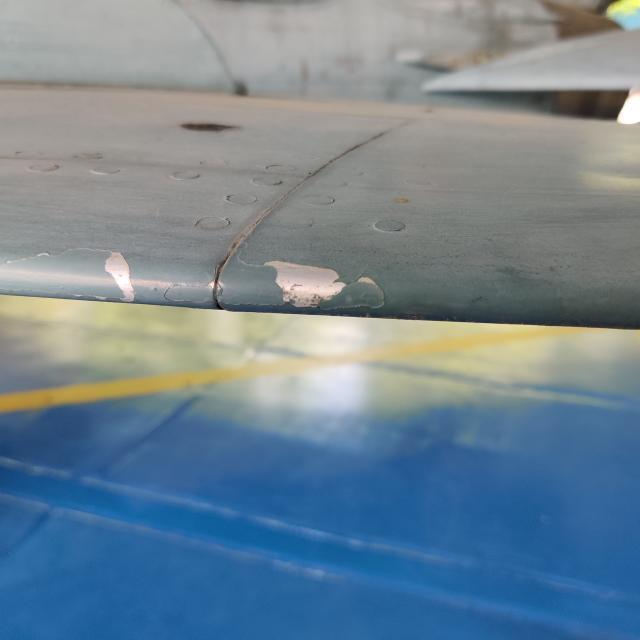Paint-off: (85, 252, 230, 310), (265, 259, 382, 316)
